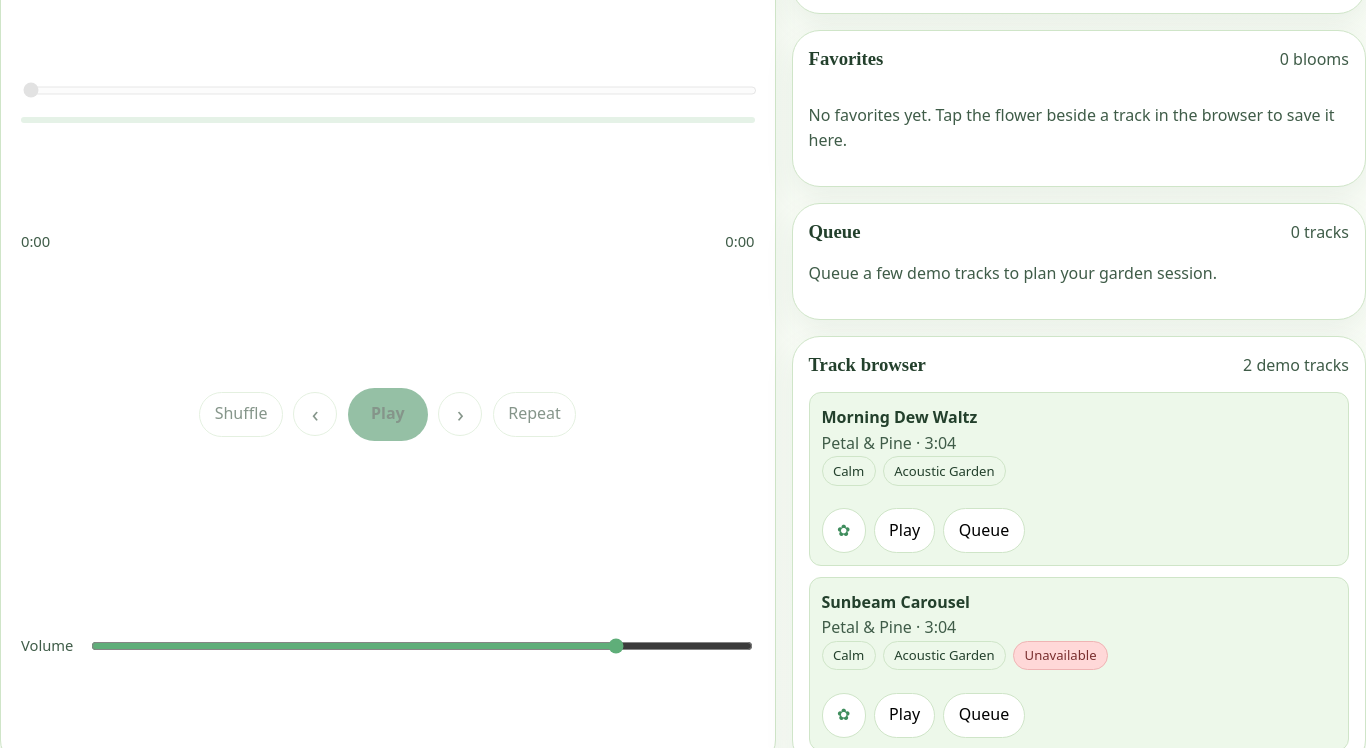
VisualPlayer › shows unavailable audio messaging for fictional demo URLs
(page scrolled)
Click the button with aria-label "Play Sunbeam Carousel" at (905, 715), box [874, 693, 935, 738]
(page scrolled)
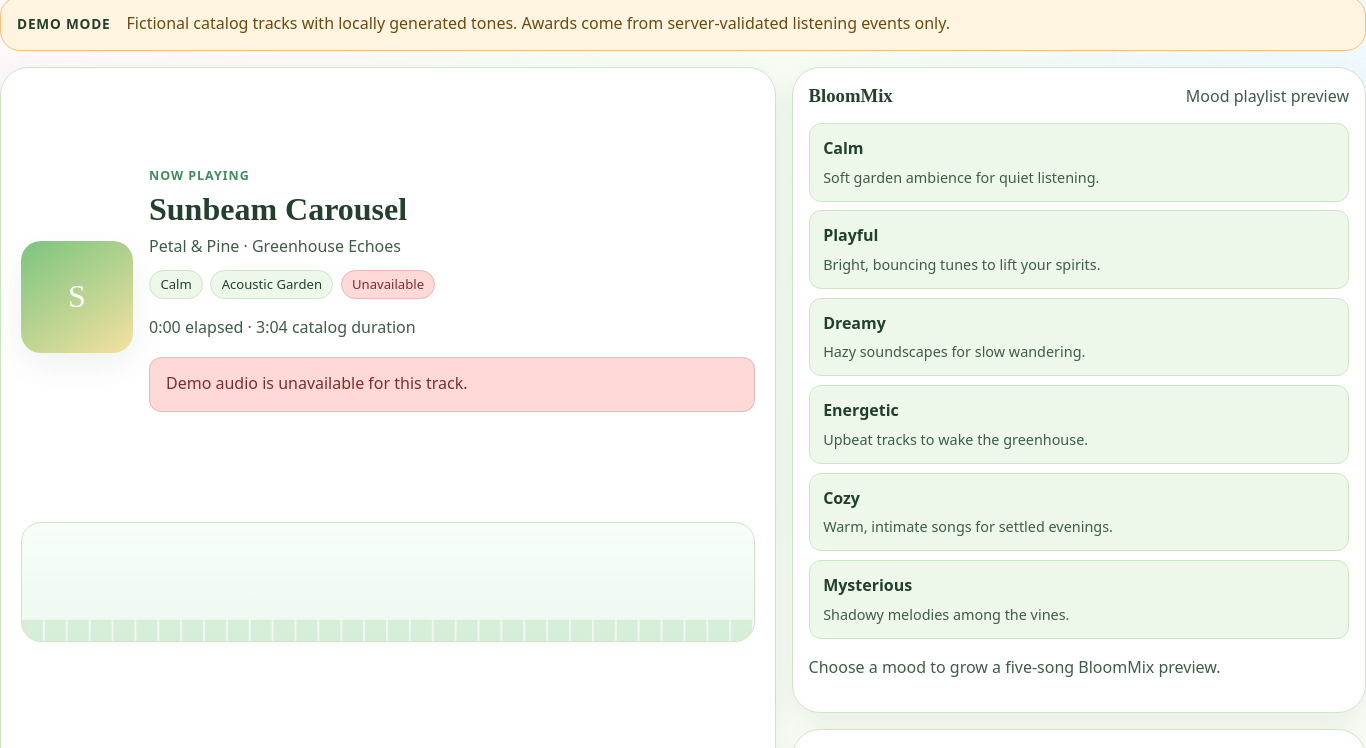
Now the text "Demo audio is unavailable for this track." is shown, box [149, 357, 754, 412]
